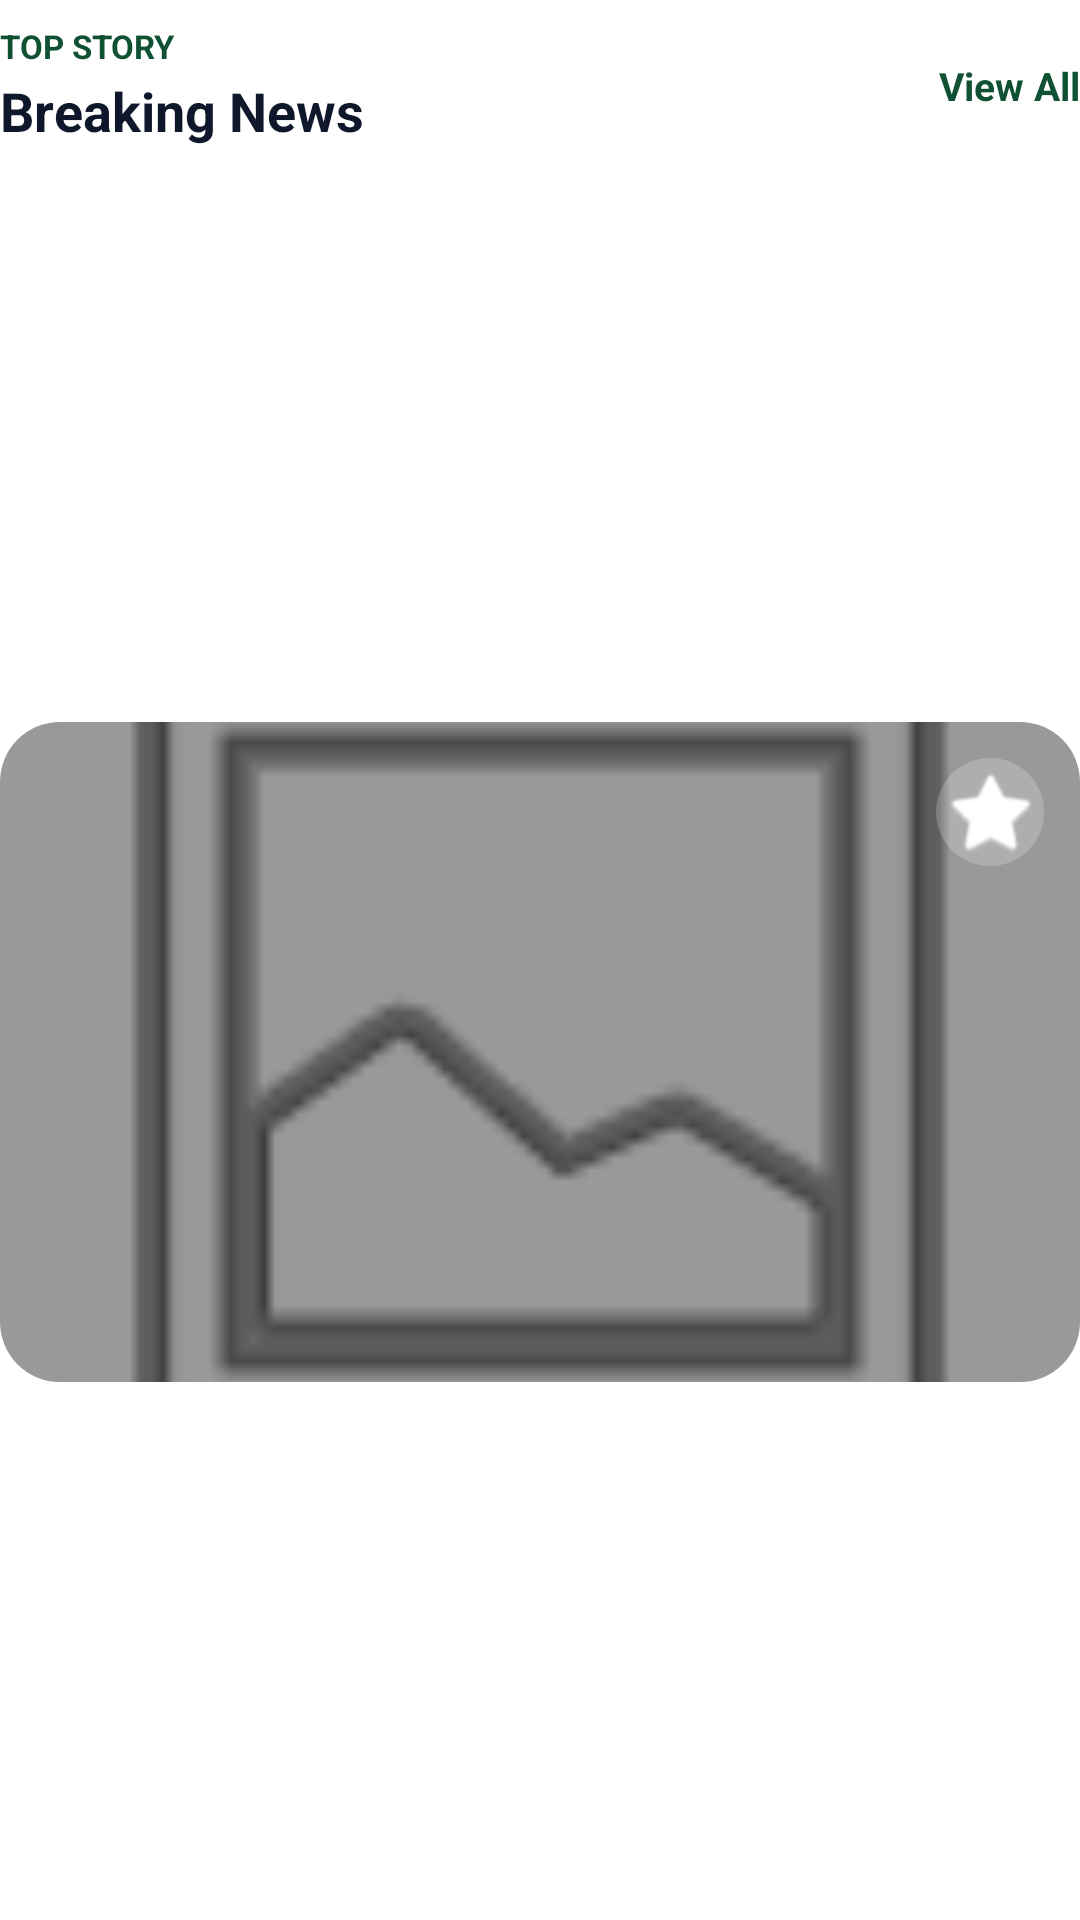

Named icons in this screenshot (1080*1920) and their centers, [x,y]:
Bookmark: [990,813]
